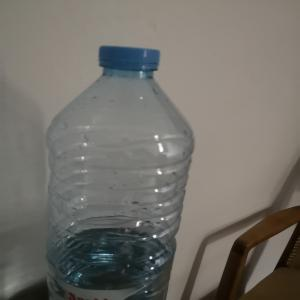Plastic-bottle: (45, 45, 197, 300)
